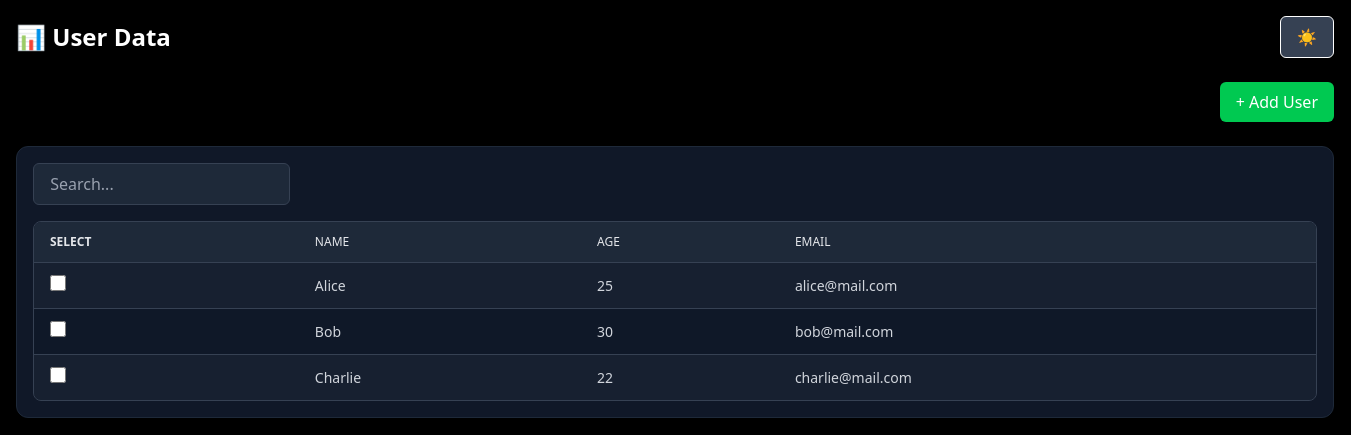
DataTable Component › deletes selected rows
Click the checkbox named "Select row 1".
click(58, 283)  # box top-left (50, 275), bottom-right (66, 291)
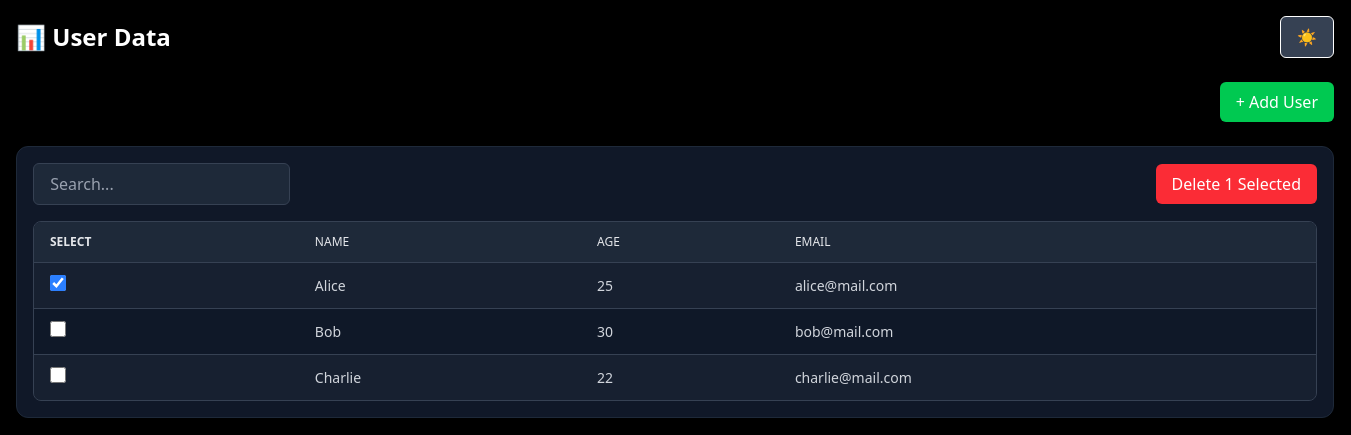
Click the button "Delete 1 Selected".
click(1236, 184)  # box top-left (1156, 164), bottom-right (1317, 204)
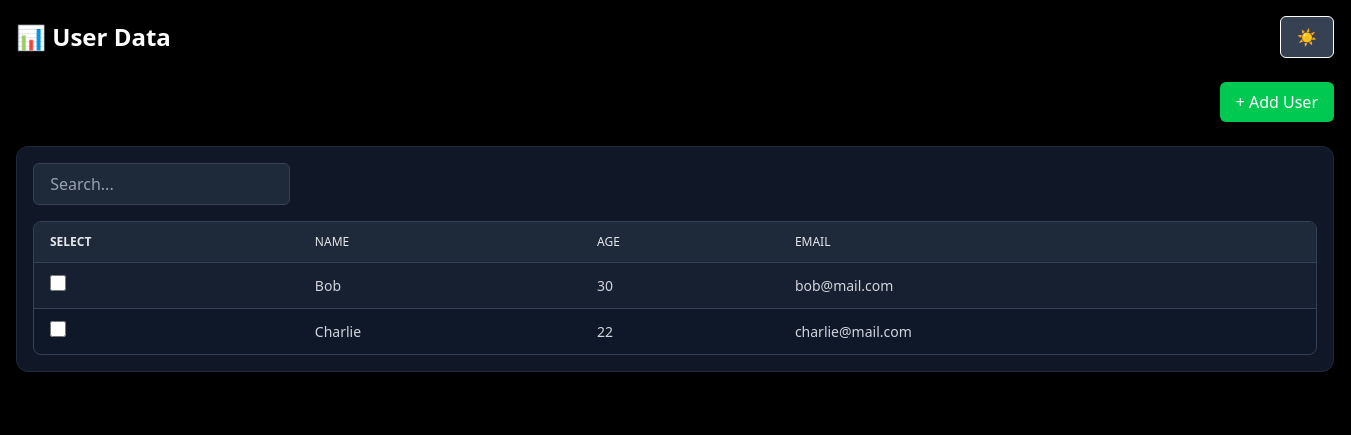
expect the text "Alice" is gone: met
